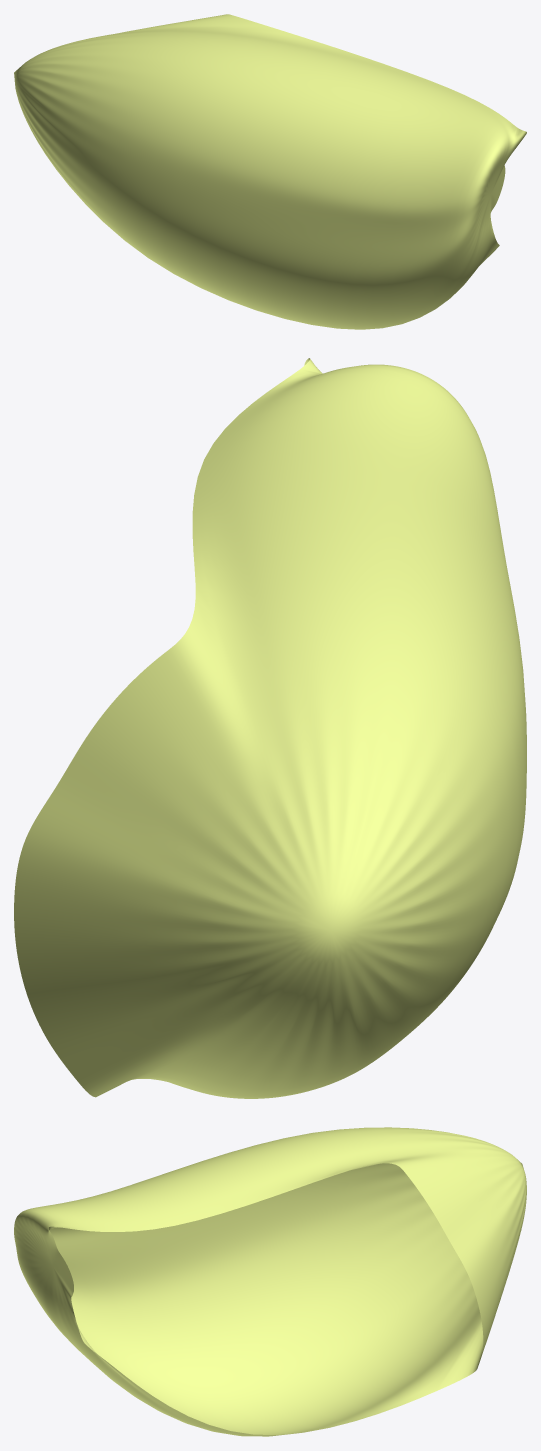
The model's file is garliccut3.fbx.
3 renders of one model, top to bottom at view 1: azimuth 30°, elevation 25°; view 2: azimuth 150°, elevation 25°; view 3: azimuth 270°, elevation 25°, orthographic. The views are drawn at different scales.
Parts seen in each view (by area): view 1: Cylinder.002; view 2: Cylinder.002; view 3: Cylinder.002.
Boxes of the visible parts, bbox=[...] form: Cylinder.002: bbox=[14, 14, 526, 329]; Cylinder.002: bbox=[14, 358, 526, 1098]; Cylinder.002: bbox=[14, 1127, 526, 1436].
Size of the model in its own units: 99.25 by 89.66 by 166.
